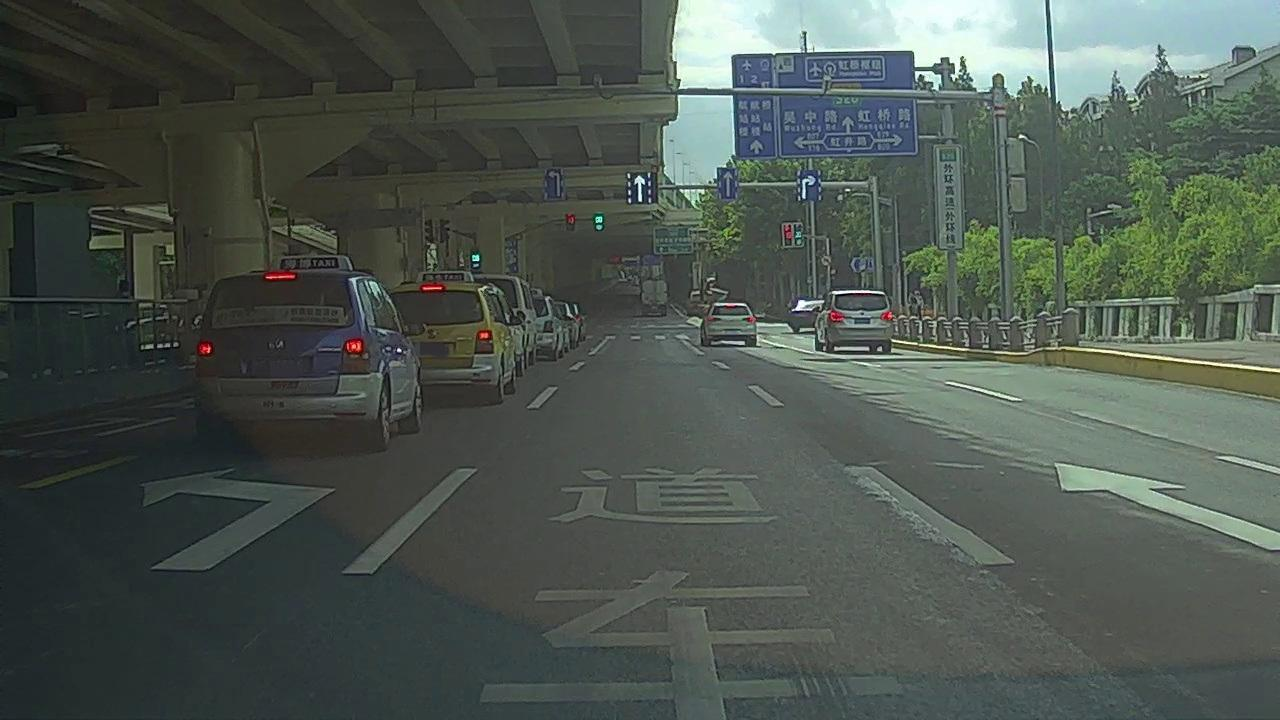traffic_light: (782, 224, 792, 246), (794, 222, 802, 248)
